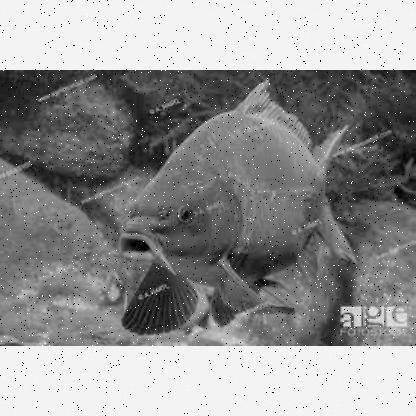ikan-mas: (121, 82, 355, 306)
